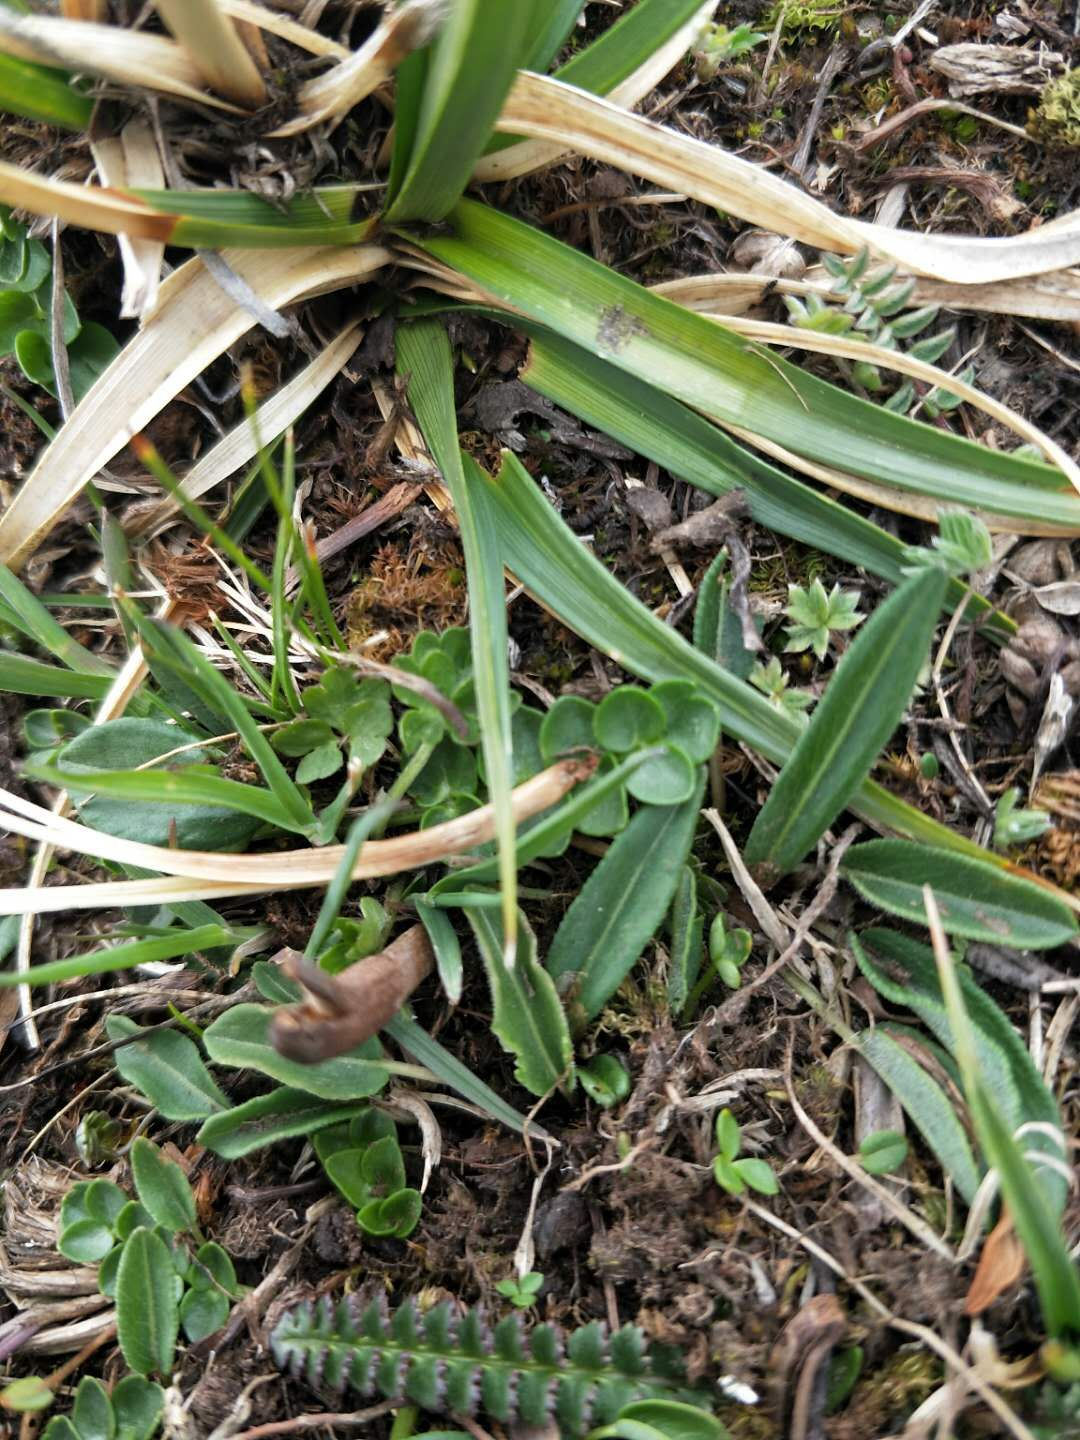Chongcao: (269, 916, 450, 1069)
